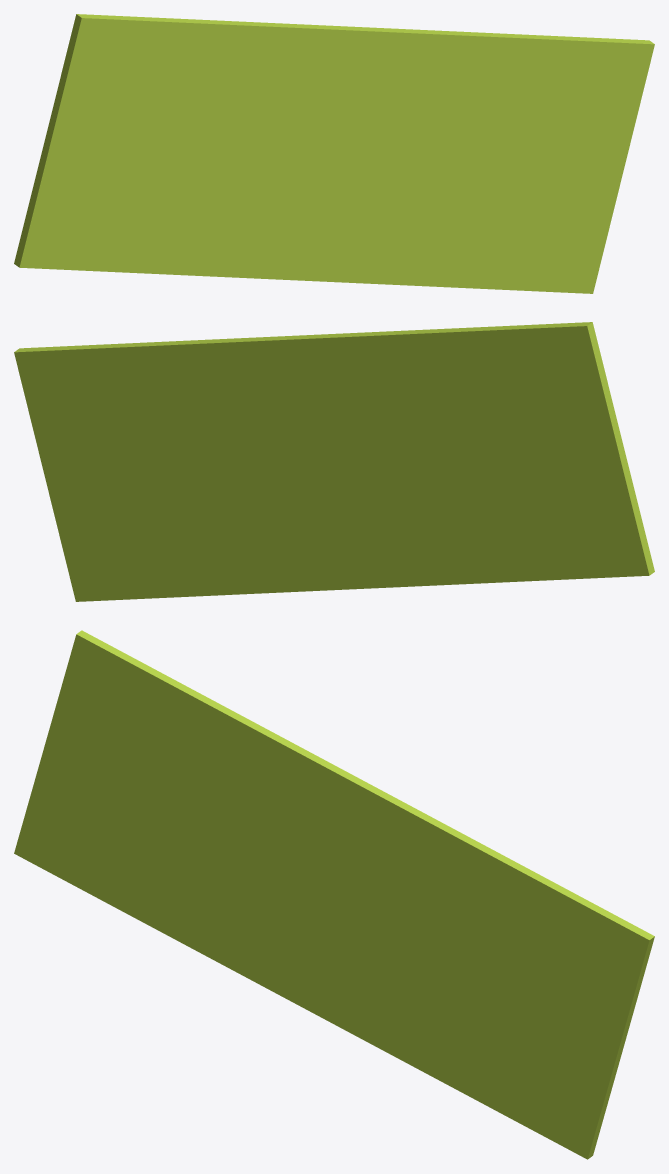
3 views of the same model, one above another, from view 1: azimuth 30°, elevation 25°; view 2: azimuth 150°, elevation 25°; view 3: azimuth 330°, elevation 25° (orthographic).
Parts seen in each view (by area): view 1: osm-way27917482-F-1; view 2: osm-way27917482-F-1; view 3: osm-way27917482-F-1.
Part boxes in pixels (x1,y1,x2,y2): osm-way27917482-F-1: (14,14,654,293); osm-way27917482-F-1: (14,322,654,601); osm-way27917482-F-1: (14,630,654,1159).
Bounding box in the file's own units: 10.06 × 6.06 × 0.15.
